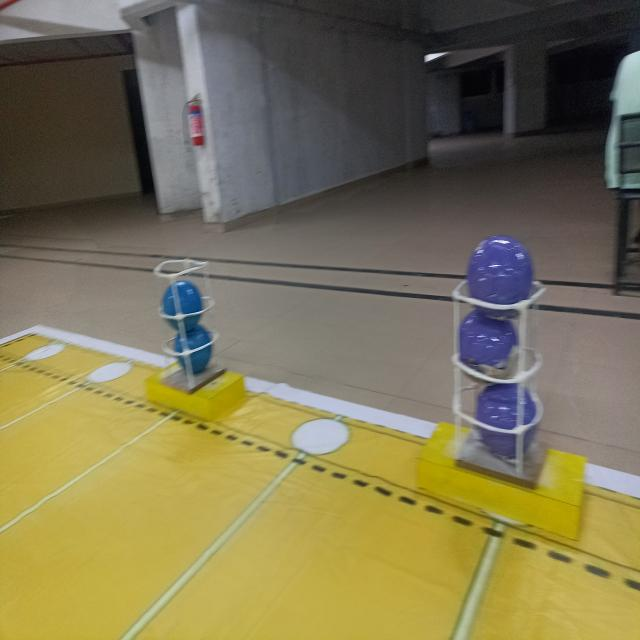blue_ball: (164, 274, 207, 328), (172, 327, 214, 372)
purple_ball: (465, 227, 535, 309), (472, 377, 541, 458), (458, 305, 525, 382)
silo: (452, 252, 550, 478), (158, 249, 221, 389)
